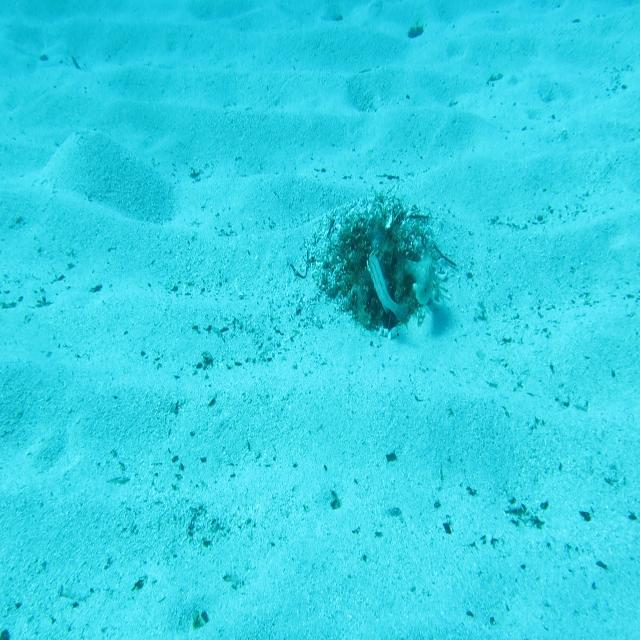DAN_CIRC: (396, 250, 438, 308)
female: (364, 251, 410, 330)
nest: (317, 186, 449, 338)
